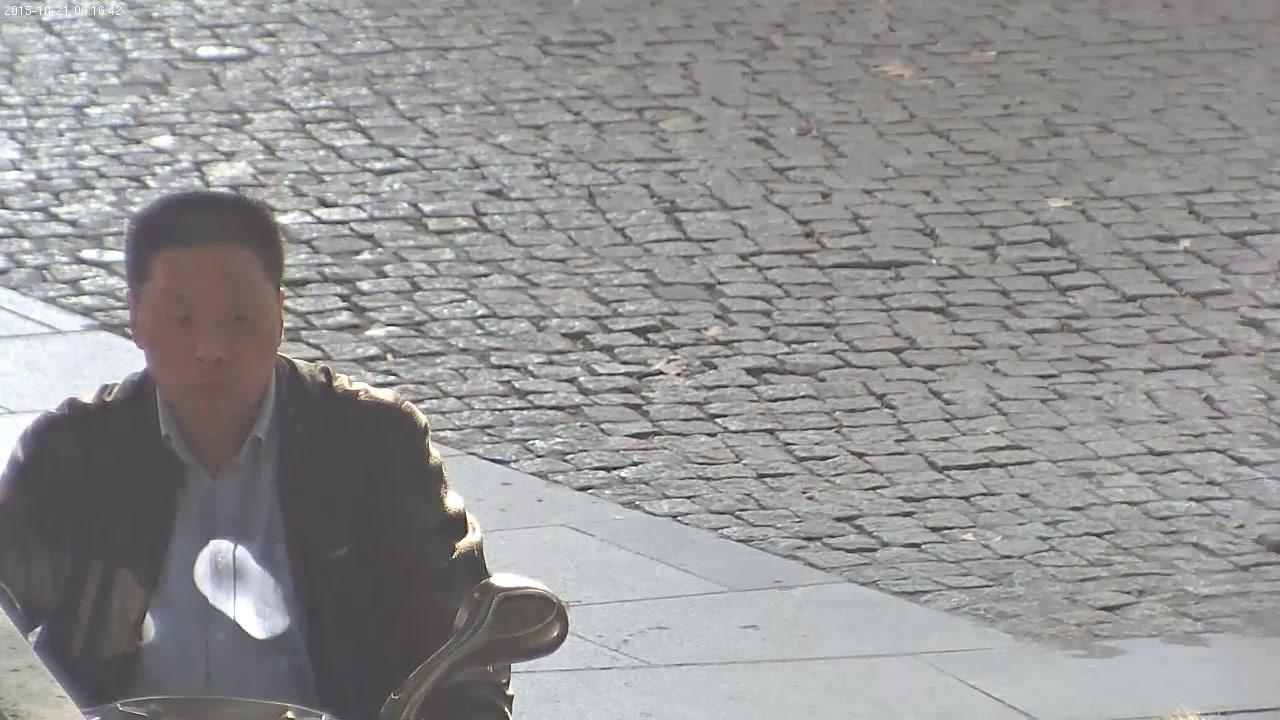face: (142, 249, 276, 415)
